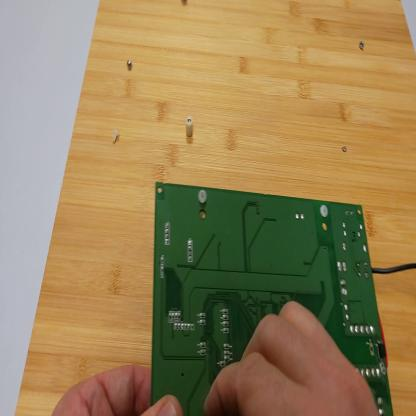hand: (205, 298, 381, 413), (50, 365, 183, 415)
low voltage board: (149, 183, 393, 416)
working area: (15, 1, 416, 415)
